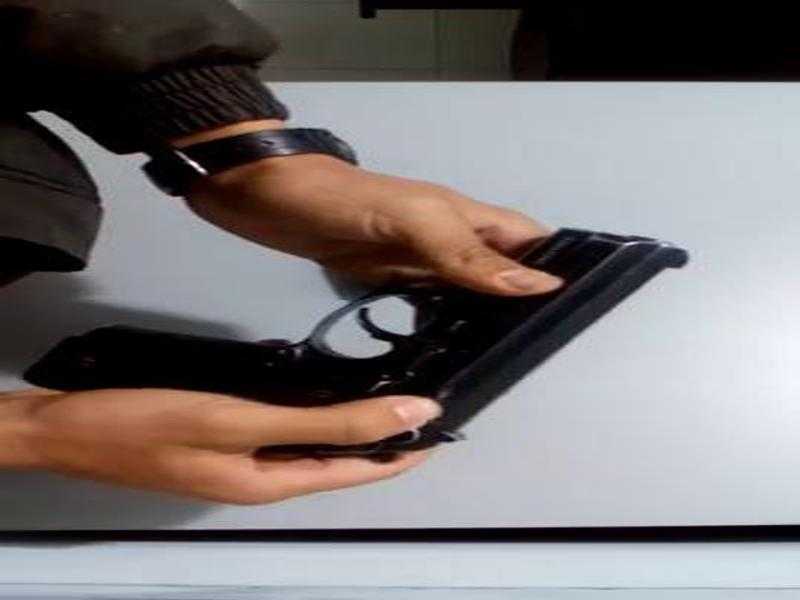Pistola: (1, 204, 716, 490)
